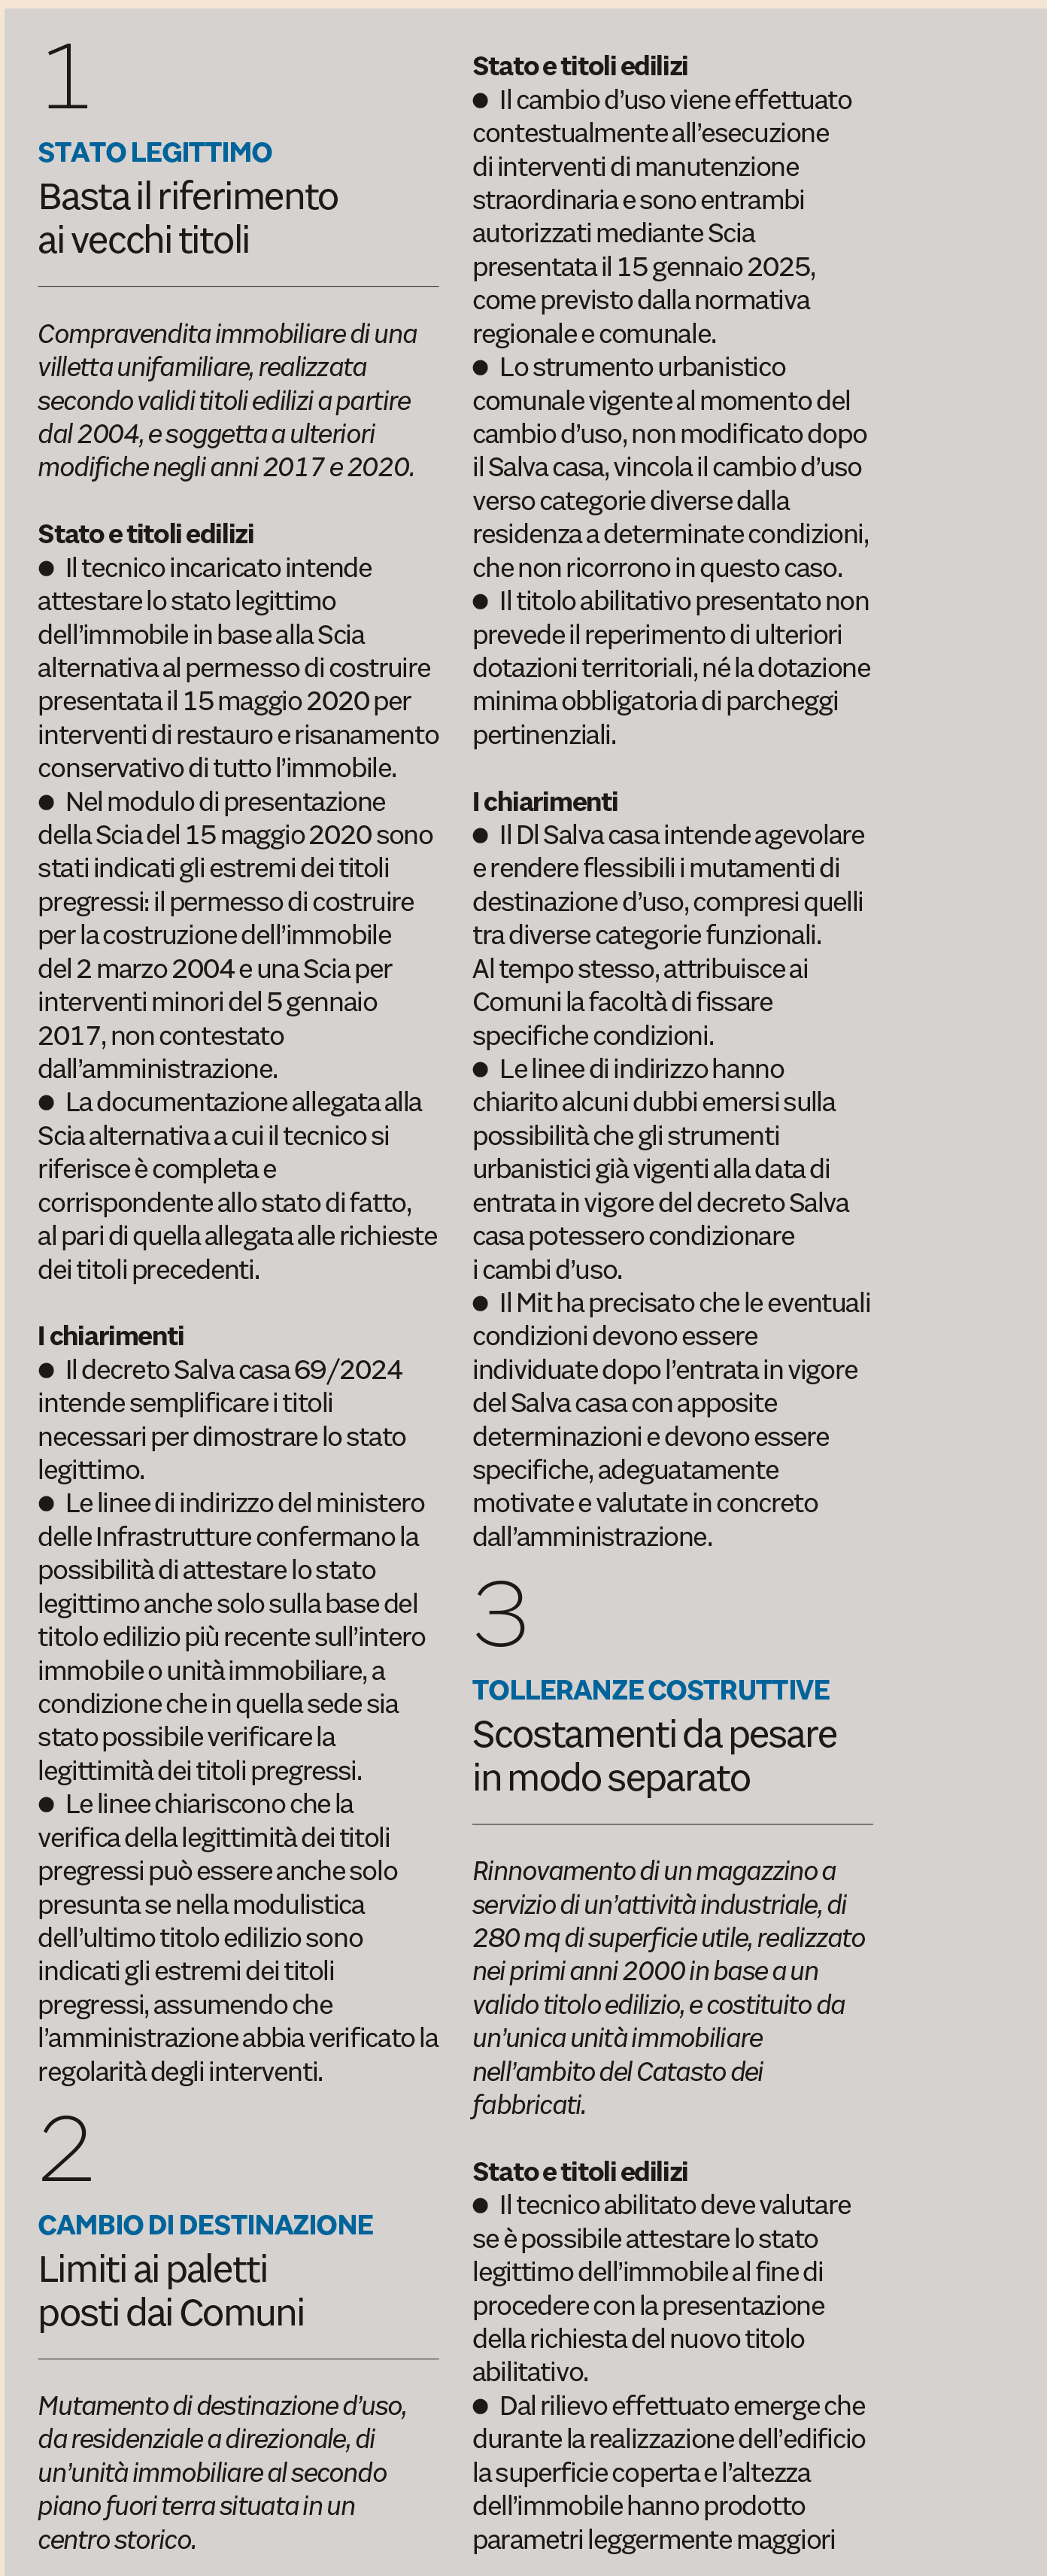scheda-punti-numero-1: (25, 33, 459, 2100), (464, 1562, 886, 2558), (26, 2101, 462, 2576)
scheda-testo-1: (462, 784, 896, 1556), (462, 33, 891, 780)
